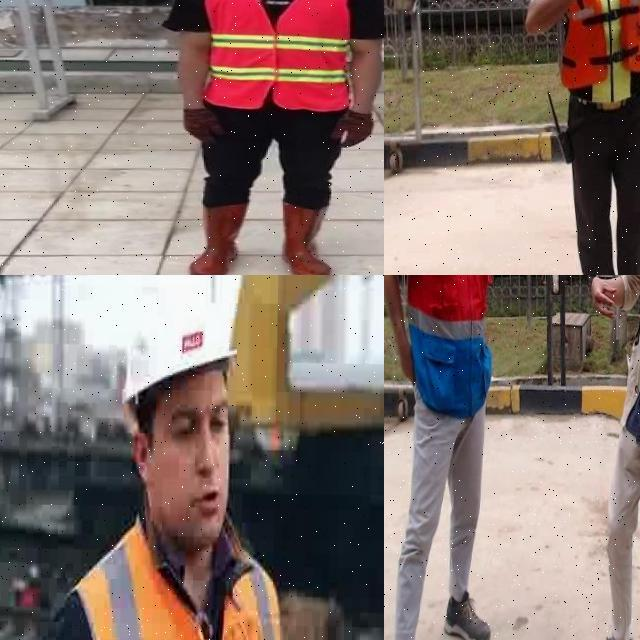boots: (189, 203, 247, 275), (283, 201, 334, 275), (444, 590, 492, 640)
helmet: (119, 284, 239, 412)
vest: (56, 504, 292, 640), (204, 0, 356, 113), (405, 275, 497, 414), (559, 0, 640, 103)
